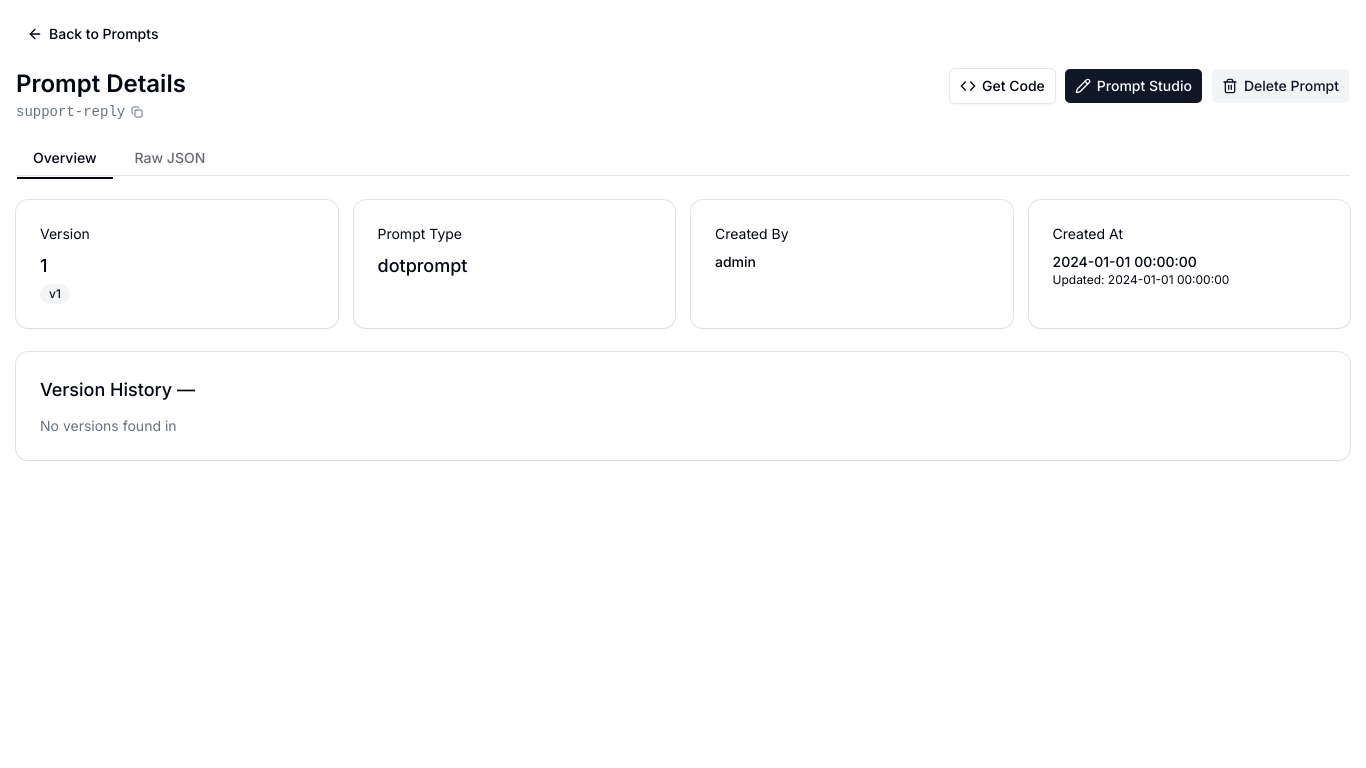
Test: PromptInfoView tabs › shows the raw API response for a prompt that has no template
The width and height of the screenshot is (1366, 768).
Click the tab "Raw JSON".
click(170, 158)  # box [118,140,222,174]
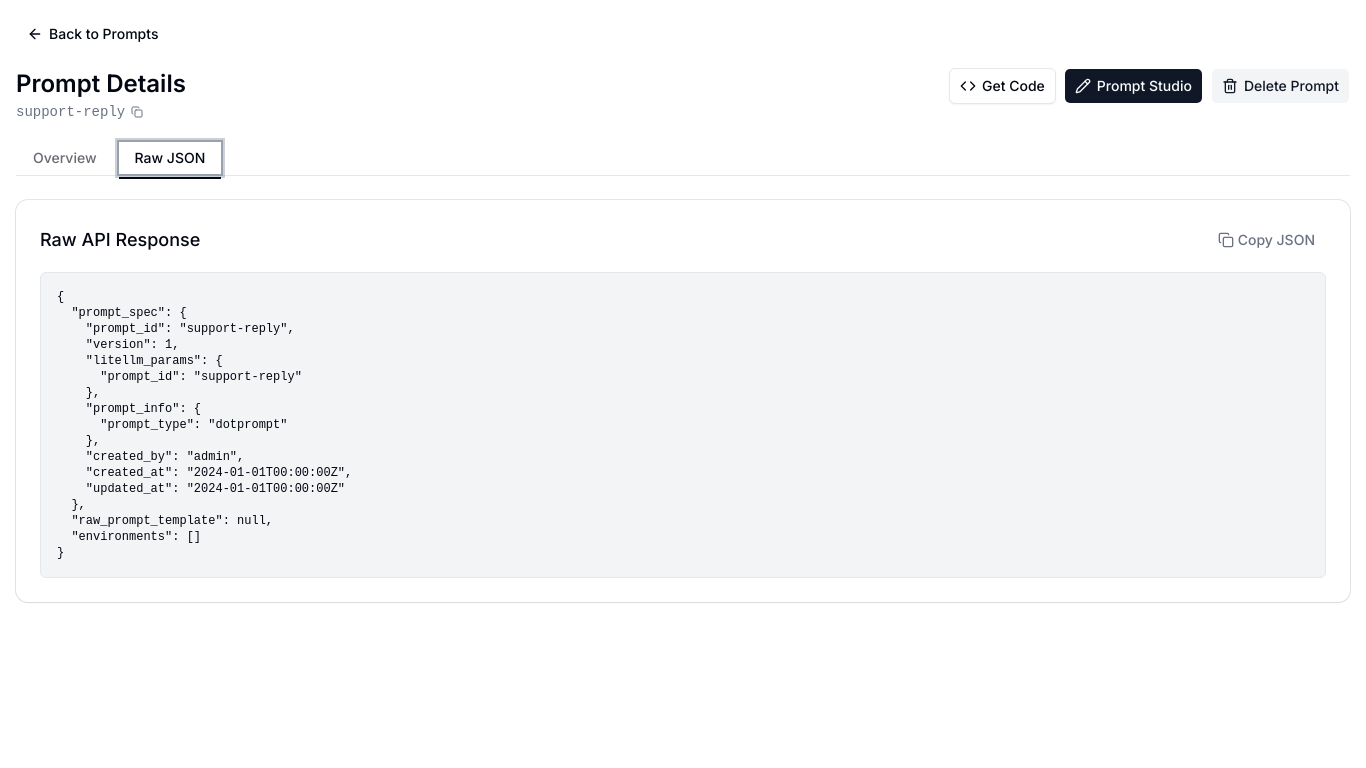
expect the heading "Raw API Response" is shown: met, box [40,226,200,254]
expect the text "\"prompt_id\": \"support-reply\"" is shown: met, box [57,290,352,560]
